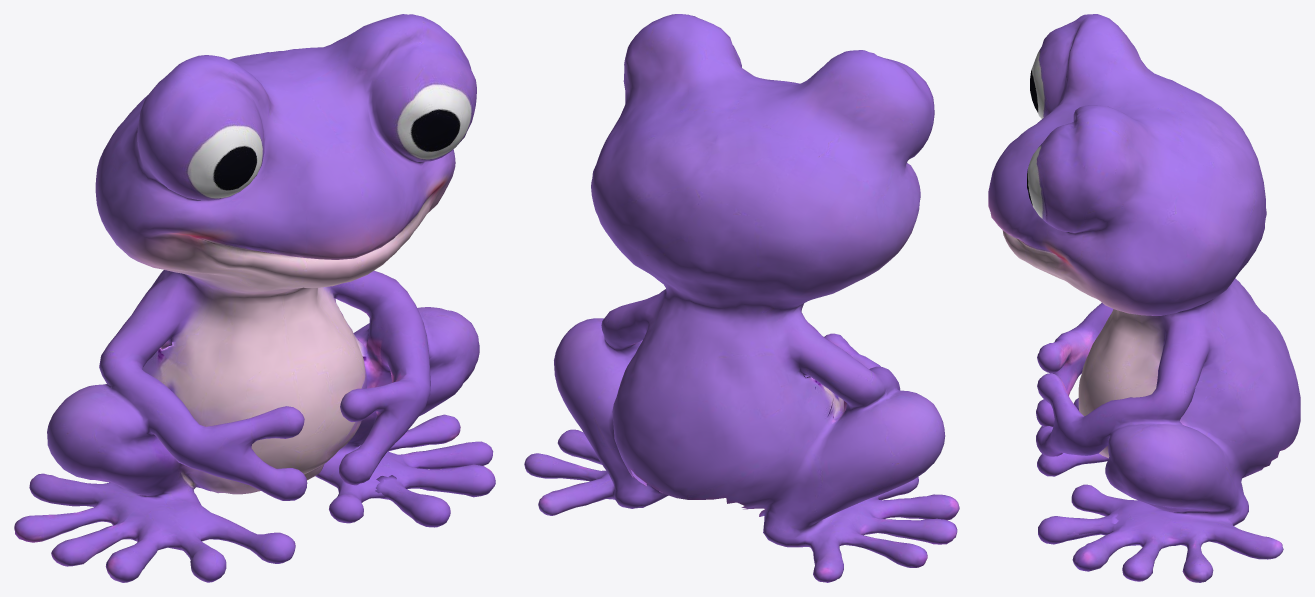
The model's file is frog_purple_v1.glb.
The picture shows the model from 3 angles, left to right: view 1: azimuth 30°, elevation 25°; view 2: azimuth 150°, elevation 25°; view 3: azimuth 270°, elevation 25°; orthographic projection. The views are drawn at different scales.
Bounding box in the file's own units: 1.77 × 1.9 × 1.23.
Materials: 1 (1 with a texture image).
